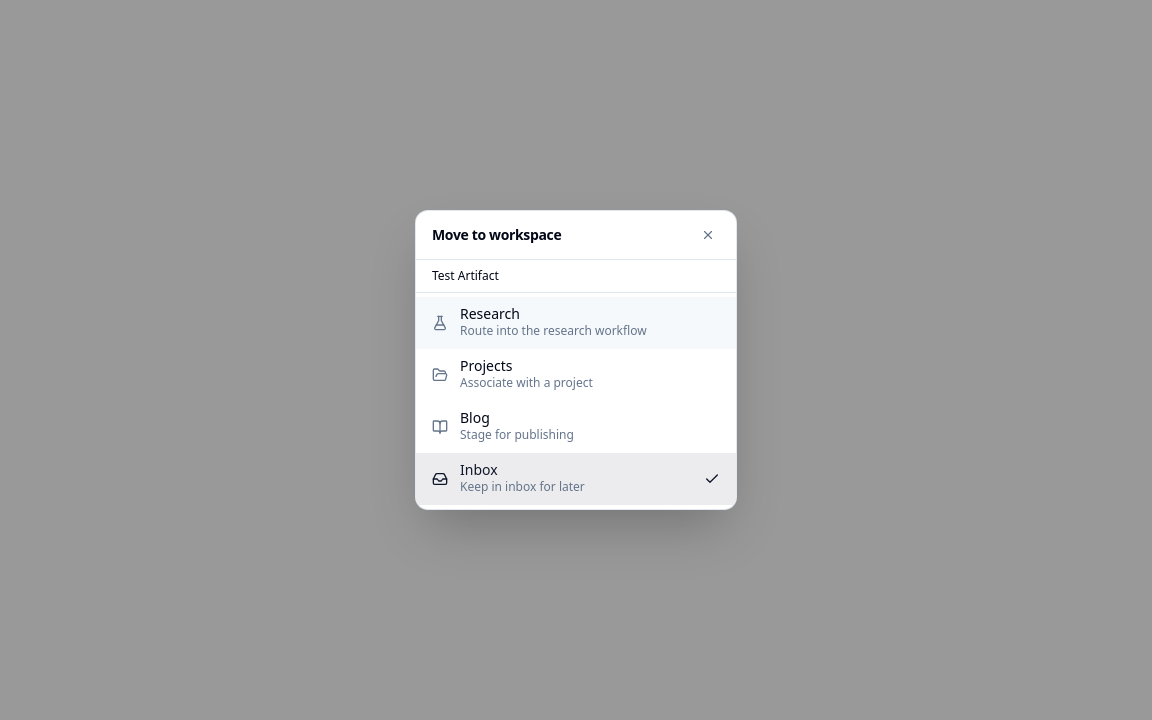
RouteModal › shows success toast and closes modal after successful mutation
This screenshot has width=1152, height=720.
Click the radio button labelled "Projects Associate with a project".
click(576, 375)  # box [416,349,736,401]
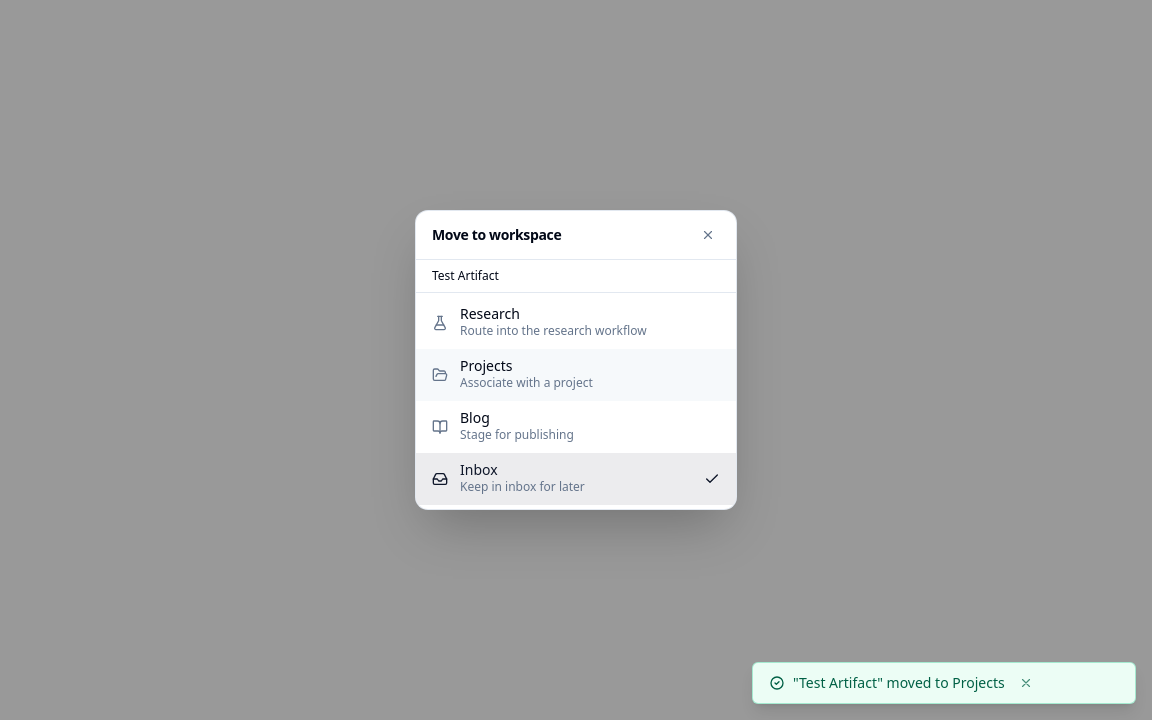
Expected: the message "\"Test Artifact\" moved to Projects" is shown, [752,662,1136,704]
Expected: the message shows "Projects", [793,673,1005,692]
